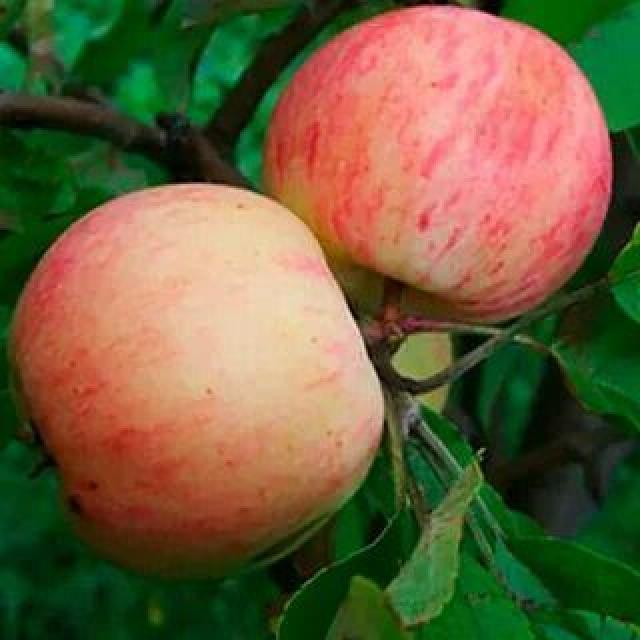Fresh Apple: (18, 182, 370, 575), (243, 12, 617, 335)
